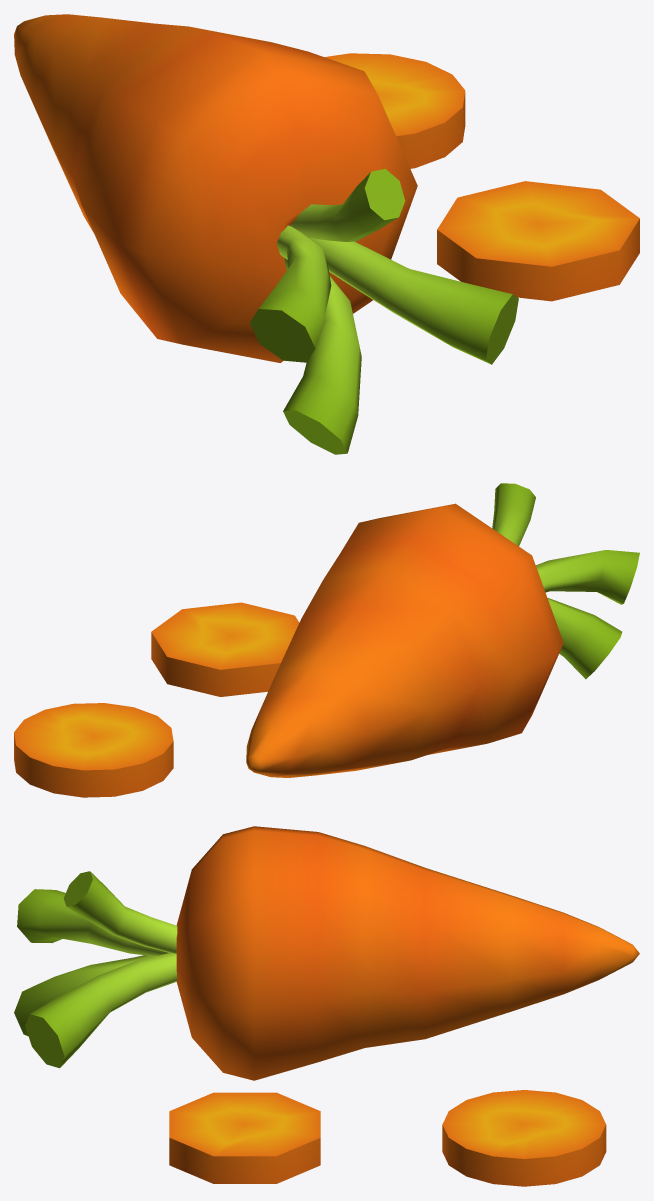
Rendered from carrot.fbx.
The picture shows the model from 3 angles, top to bottom: view 1: azimuth 30°, elevation 25°; view 2: azimuth 150°, elevation 25°; view 3: azimuth 270°, elevation 25°; orthographic projection. The views are drawn at different scales.
Visible parts, largest first — view 1: CarrotBody, CarrotLeaf, CarrotPiece_Low, CarrotPiece; view 2: CarrotBody, CarrotPiece, CarrotPiece_Low, CarrotLeaf; view 3: CarrotBody, CarrotLeaf, CarrotPiece, CarrotPiece_Low.
Boxes of the visible parts, left/top/right/bottom form: CarrotBody: left=14, top=14, right=417, bottom=362; CarrotLeaf: left=250, top=169, right=518, bottom=454; CarrotPiece_Low: left=437, top=181, right=639, bottom=301; CarrotPiece: left=324, top=53, right=465, bottom=168; CarrotBody: left=246, top=503, right=563, bottom=777; CarrotPiece: left=14, top=703, right=173, bottom=797; CarrotPiece_Low: left=151, top=602, right=299, bottom=696; CarrotLeaf: left=492, top=483, right=639, bottom=679; CarrotBody: left=176, top=826, right=639, bottom=1080; CarrotLeaf: left=14, top=871, right=177, bottom=1068; CarrotPiece: left=442, top=1090, right=606, bottom=1186; CarrotPiece_Low: left=169, top=1092, right=320, bottom=1183.
Bounding box in the file's own units: 1.07 × 1.43 × 0.6205.
